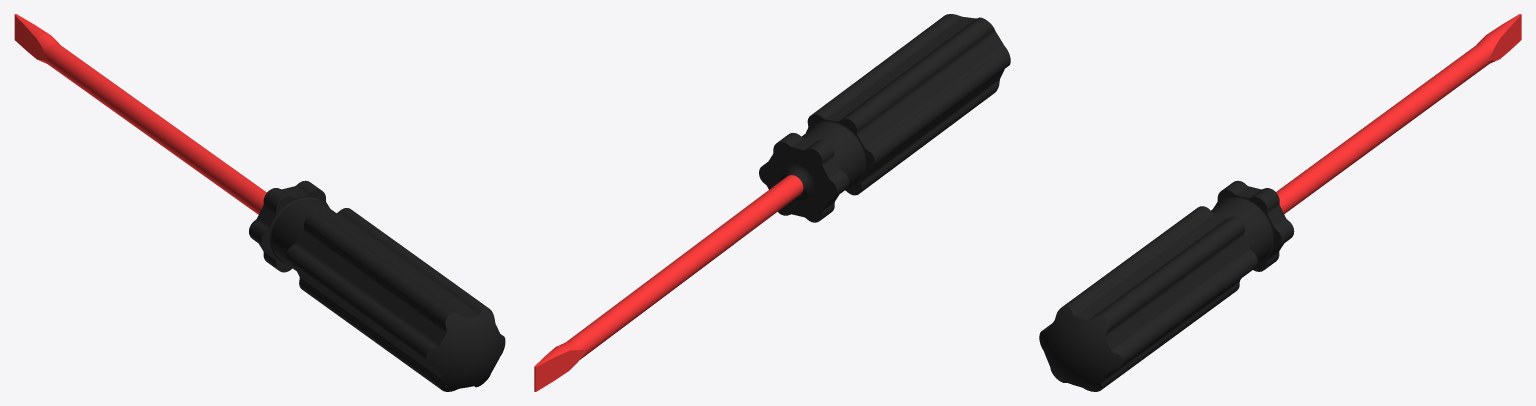
Rendered from flat_head_driver.fbx.
3 views of the same model, side by side, from view 1: azimuth 30°, elevation 25°; view 2: azimuth 150°, elevation 25°; view 3: azimuth 330°, elevation 25° (orthographic).
Parts seen in each view (by area): view 1: flat_screwdriver; view 2: flat_screwdriver; view 3: flat_screwdriver.
Boxes of the visible parts, bbox=[...] form: flat_screwdriver: bbox=[14, 14, 505, 391]; flat_screwdriver: bbox=[534, 14, 1010, 391]; flat_screwdriver: bbox=[1039, 14, 1521, 391].
Size of the model in its own units: 1.87 by 1.74 by 17.89.
